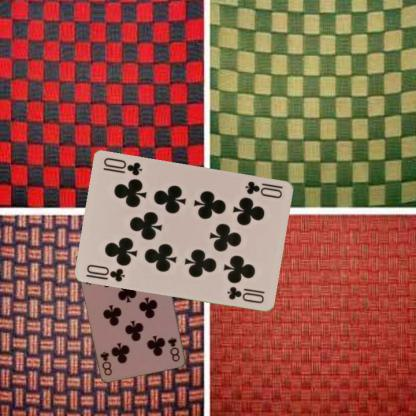10c: (83, 261, 127, 283), (242, 178, 284, 199)
8c: (166, 334, 182, 363)
